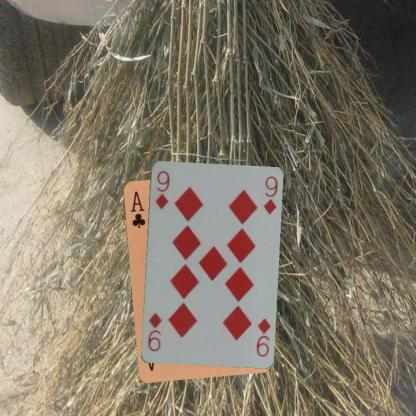9d: (253, 315, 272, 358), (152, 168, 170, 210)
Ac: (128, 188, 146, 230)
